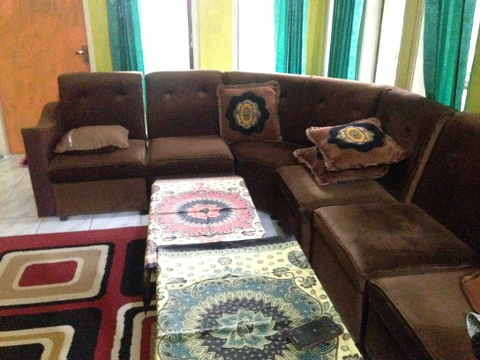meja: (144, 173, 267, 299)
